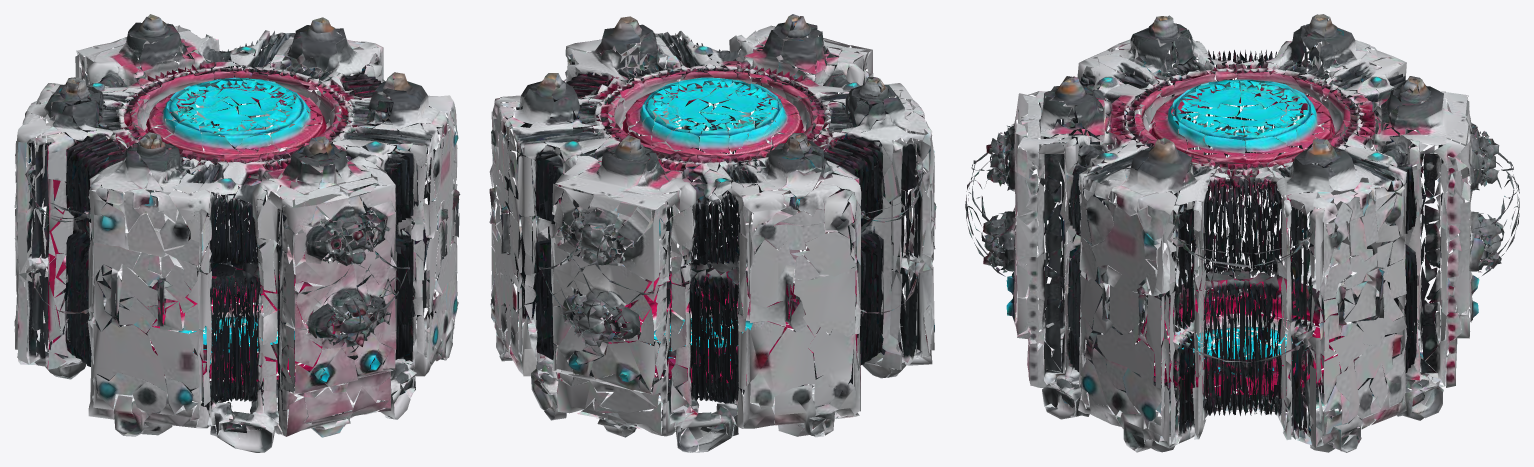
File: powerd.glb
The picture shows the model from 3 angles, left to right: view 1: azimuth 30°, elevation 25°; view 2: azimuth 150°, elevation 25°; view 3: azimuth 270°, elevation 25°; orthographic projection. The views are drawn at different scales.
Parts seen in each view (by area): view 1: Mesh_0; view 2: Mesh_0; view 3: Mesh_0.
Boxes of the visible parts, x1=… form: Mesh_0: x1=14, y1=14, x2=460, y2=452; Mesh_0: x1=489, y1=14, x2=936, y2=452; Mesh_0: x1=965, y1=14, x2=1519, y2=452.
Size of the model in its own units: 1.57 by 1.16 by 1.89.
1 material, 1 textured.
